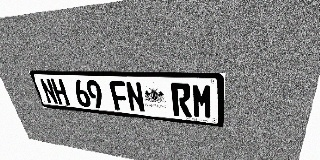6: (71, 79, 92, 108)
9: (85, 80, 105, 109)
F: (109, 81, 130, 111)
H: (50, 79, 70, 105)
M: (191, 83, 213, 119)
N: (125, 81, 146, 113), (39, 78, 59, 104)
R: (171, 83, 192, 117)
